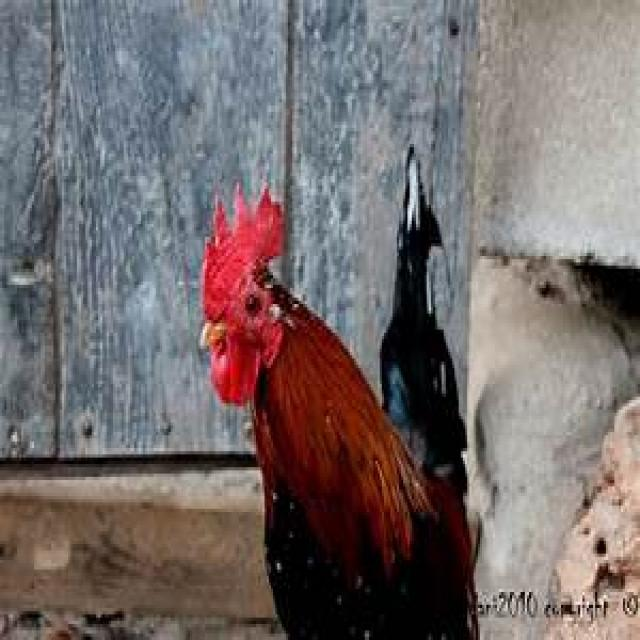hen: (198, 163, 482, 640)
